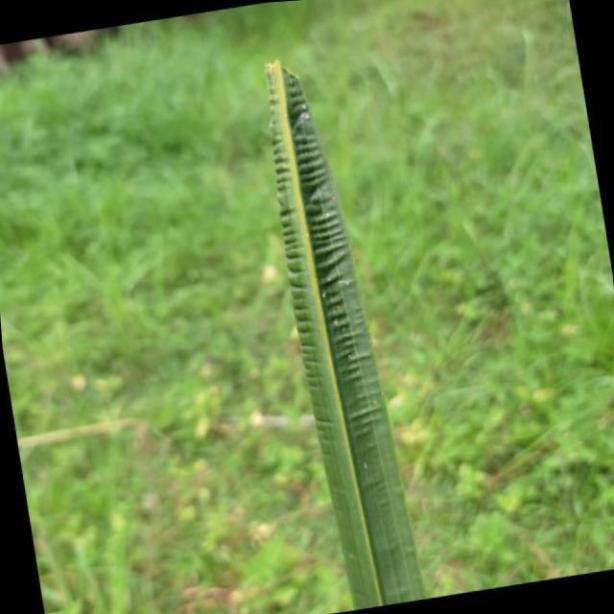Boron: (256, 57, 424, 614)
